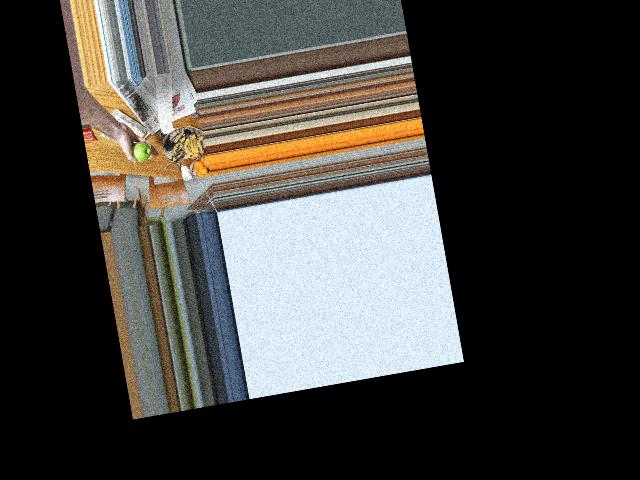apple: (127, 138, 151, 164)
